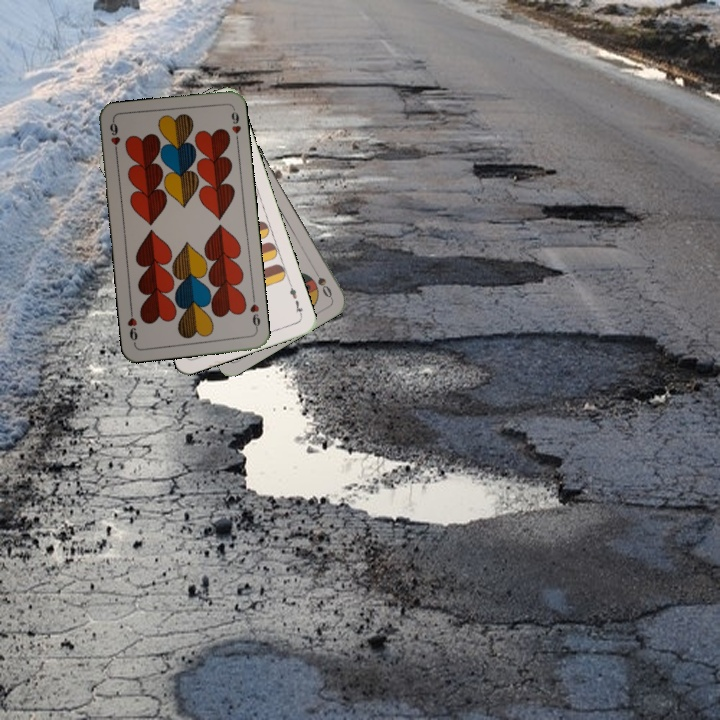E7: (285, 280, 305, 319)
H9: (105, 118, 123, 158), (246, 293, 263, 333)
SO: (309, 263, 335, 301)
